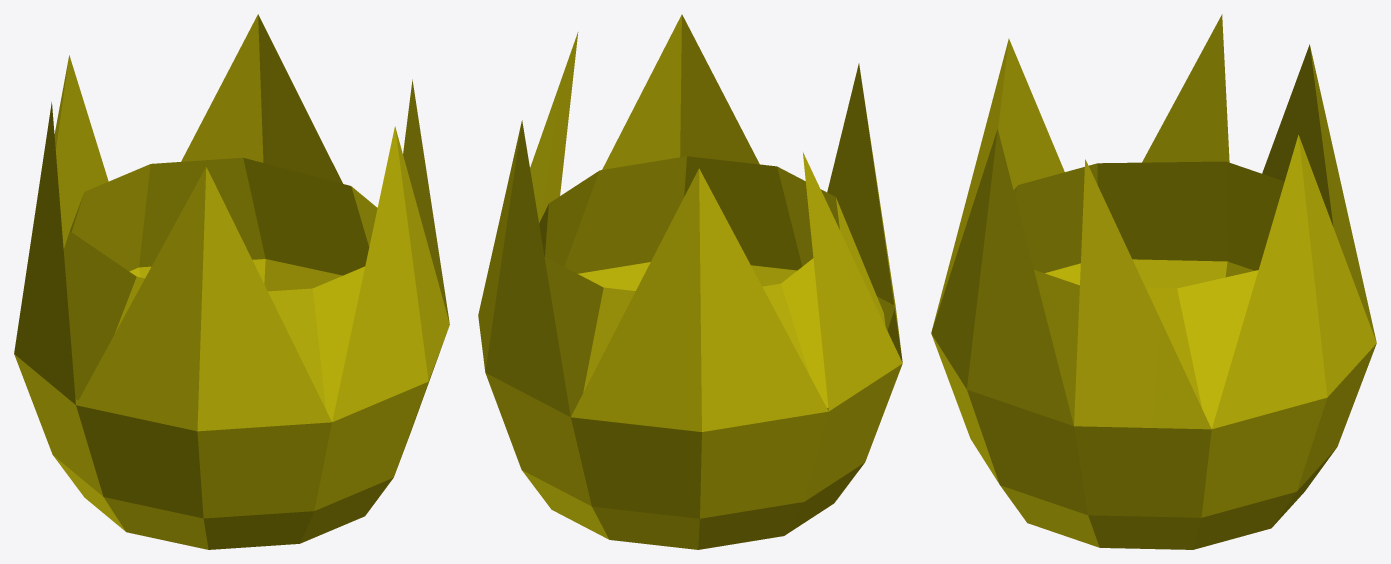
Rendered from SporeCanon1.fbx.
3 renders of one model, left to right at view 1: azimuth 30°, elevation 25°; view 2: azimuth 150°, elevation 25°; view 3: azimuth 270°, elevation 25°, orthographic.
Parts seen in each view (by area): view 1: MilkJar1; view 2: MilkJar1; view 3: MilkJar1.
Boxes of the visible parts, box(x1,y1,x2,y2) form: MilkJar1: box(14, 14, 449, 549); MilkJar1: box(478, 14, 902, 549); MilkJar1: box(931, 14, 1376, 549).
Size of the model in its own units: 244 by 251 by 252.
